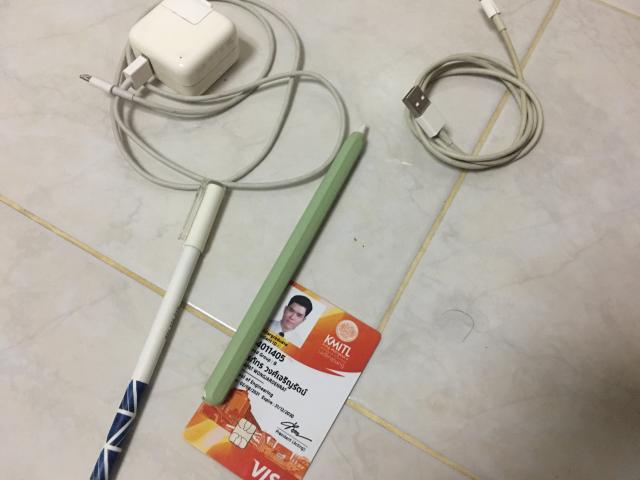Pen: (91, 180, 225, 479)
wire: (81, 0, 348, 190), (404, 0, 544, 170)
